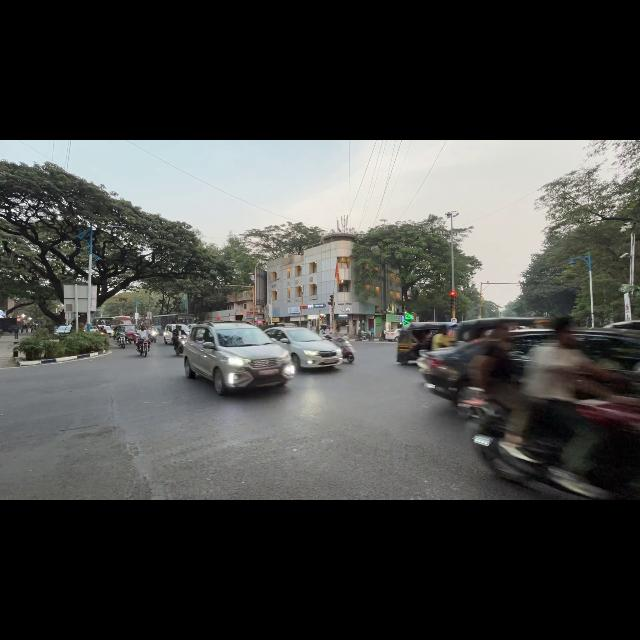bus: (152, 314, 195, 328), (111, 316, 132, 327), (91, 317, 113, 325)
car: (184, 322, 294, 395), (417, 341, 482, 403), (265, 327, 342, 368), (163, 324, 190, 344), (603, 321, 639, 330), (54, 325, 72, 337), (385, 329, 399, 341), (98, 325, 113, 335), (90, 326, 100, 332)
motorcycle: (471, 399, 573, 493), (336, 337, 355, 363), (174, 335, 187, 355), (137, 339, 150, 357), (117, 334, 128, 348), (150, 328, 158, 342), (356, 333, 369, 340)
